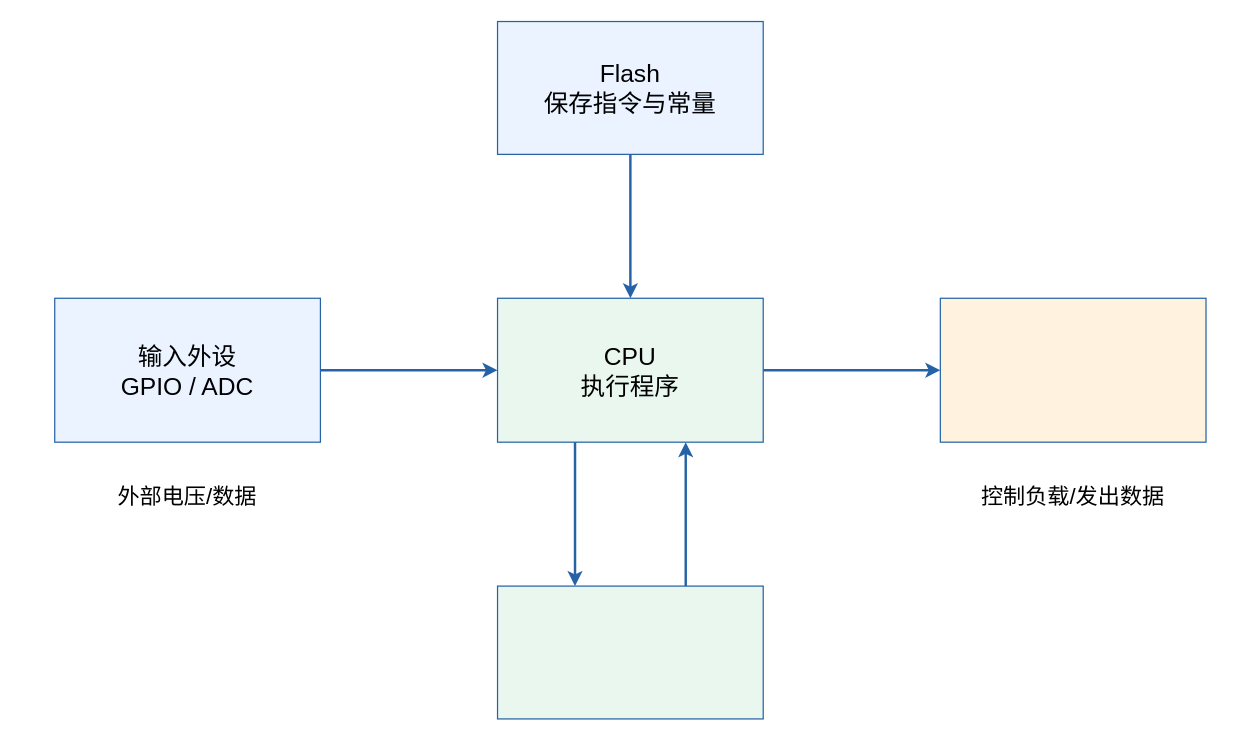
The diagram is 1260 pixels wide and 740 high, and some of its shapes have lost their labels. The centre of each missing label's shape, as x and y in pixels:
"SRAM 保存运行变量" belongs at point 629,652.
"输出外设 GPIO / TIM" belongs at point 1072,369.
